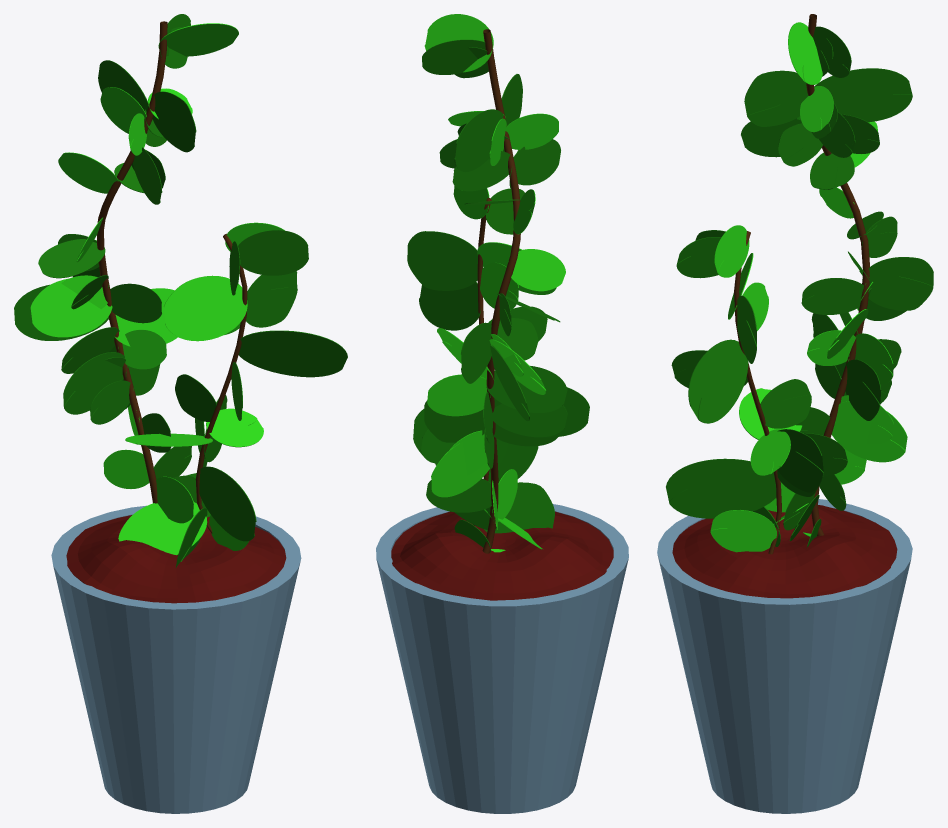
The model's file is plant.fbx.
The picture shows the model from 3 angles, left to right: view 1: azimuth 30°, elevation 25°; view 2: azimuth 150°, elevation 25°; view 3: azimuth 270°, elevation 25°; orthographic projection. The views are drawn at different scales.
Parts seen in each view (by area): view 1: NP, Pshort|Plane.003|Dupli|6.1, Pshort|Plane.005|Dupli|5.1, Plong, Plong|Plane.003|Dupli|6, Pshort|Plane.005|Dupli|2.1, Pshort|Plane.005|Dupli|8, Pshort|Plane.003|Dupli|0.1, Pshort|Plane.004|Dupli|7.1, Plong|Plane.005|Dupli|2, Plong|Plane.004|Dupli|7, Plong|Plane.003|Dupli|9 (+23 smaller); view 2: NP, Pshort|Plane.004|Dupli|7.1, Plong, Pshort|Plane.005|Dupli|5.1, Plong|Plane.003|Dupli|6.1, Plong|Plane.005|Dupli|8, Pshort|Plane.004|Dupli|1.1, Plong|Plane.003|Dupli|12.2, Plong|Plane.003|Dupli|, Plong|Plane.005|Dupli|8.1, Plong|Plane.005|Dupli|5.1, Plong|Plane.003|Dupli|9 (+27 smaller); view 3: NP, Pshort|Plane.005|Dupli|2.1, Plong|Plane.005|Dupli|8, Pshort|Plane.005|Dupli|5.1, Plong|Plane.004|Dupli|4, Plong|Plane.004|Dupli|7, Plong|Plane.003|Dupli|, Plong, Pshort|Plane.003|Dupli|, Pshort|Plane.004|Dupli|4.1, Pshort|Plane.004|Dupli|4, Plong|Plane.005|Dupli|8.2 (+30 smaller).
Boxes of the visible parts, x1,y1,x2,y2 form: NP: (51, 505, 301, 813); Pshort|Plane.003|Dupli|6.1: (164, 275, 247, 341); Pshort|Plane.005|Dupli|5.1: (238, 330, 347, 377); Plong: (97, 21, 167, 503); Plong|Plane.003|Dupli|6: (30, 278, 112, 337); Pshort|Plane.005|Dupli|2.1: (199, 466, 256, 541); Pshort|Plane.005|Dupli|8: (238, 230, 308, 275); Pshort|Plane.003|Dupli|0.1: (118, 502, 207, 555); Pshort|Plane.004|Dupli|7.1: (246, 271, 297, 327); Plong|Plane.005|Dupli|2: (63, 352, 124, 414); Plong|Plane.004|Dupli|7: (152, 91, 196, 152); Plong|Plane.003|Dupli|9: (158, 23, 238, 56); NP: (376, 504, 628, 813); Pshort|Plane.004|Dupli|7.1: (407, 231, 482, 290); Plong: (482, 29, 520, 553); Pshort|Plane.005|Dupli|5.1: (419, 281, 480, 330); Plong|Plane.003|Dupli|6.1: (427, 374, 486, 416); Plong|Plane.005|Dupli|8: (454, 109, 503, 172); Pshort|Plane.004|Dupli|1.1: (484, 482, 554, 533); Plong|Plane.003|Dupli|12.2: (508, 249, 565, 291); Plong|Plane.003|Dupli|: (431, 442, 489, 497); Plong|Plane.005|Dupli|8.1: (486, 366, 567, 412); Plong|Plane.005|Dupli|5.1: (492, 403, 567, 437); Plong|Plane.003|Dupli|9: (424, 14, 493, 72); NP: (657, 499, 912, 813); Pshort|Plane.005|Dupli|2.1: (666, 458, 780, 518); Plong|Plane.005|Dupli|8: (814, 68, 912, 122); Pshort|Plane.005|Dupli|5.1: (688, 339, 748, 423); Plong|Plane.004|Dupli|4: (862, 257, 933, 310); Plong|Plane.004|Dupli|7: (744, 70, 808, 126); Plong|Plane.003|Dupli|: (829, 401, 907, 462); Plong: (806, 14, 869, 536); Pshort|Plane.003|Dupli|: (710, 510, 776, 552); Pshort|Plane.004|Dupli|4.1: (777, 429, 823, 492); Pshort|Plane.004|Dupli|4: (760, 379, 811, 428); Plong|Plane.005|Dupli|8.2: (801, 278, 863, 314).
Size of the model in its own units: 160 by 492 by 161.
